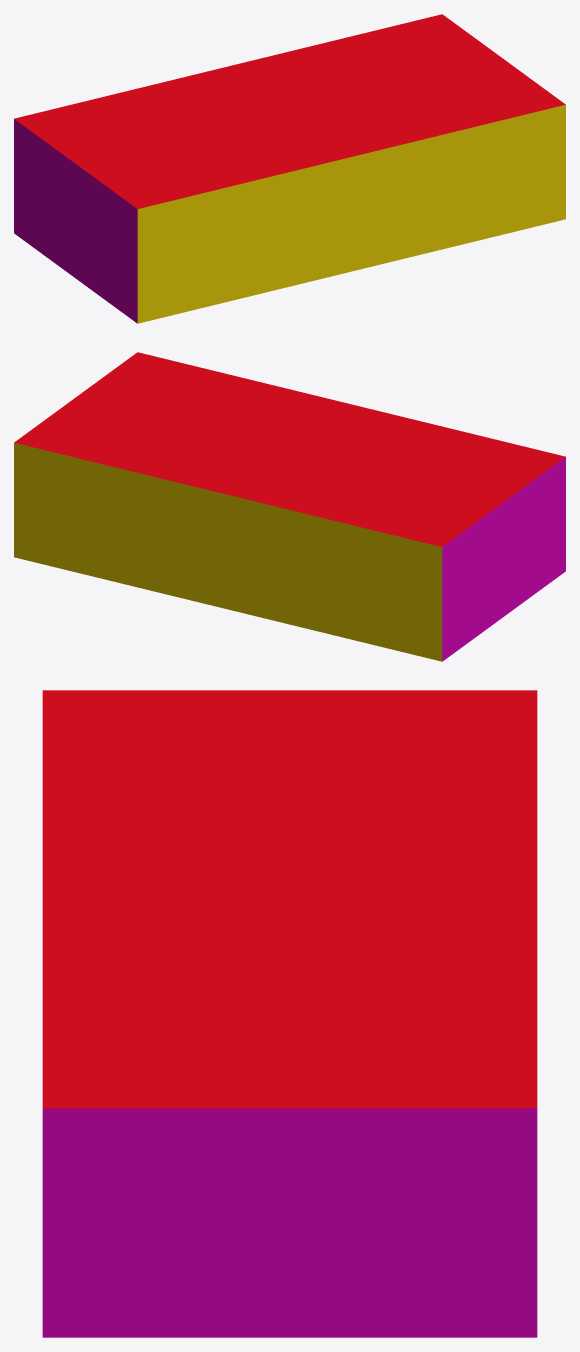
Rendered from cuboid.fbx.
The picture shows the model from 3 angles, top to bottom: view 1: azimuth 30°, elevation 25°; view 2: azimuth 150°, elevation 25°; view 3: azimuth 270°, elevation 25°; orthographic projection. The views are drawn at different scales.
Parts seen in each view (by area): view 1: Cuboid; view 2: Cuboid; view 3: Cuboid.
Part boxes in pixels (x1=…): Cuboid: x1=14, y1=14, x2=565, y2=323; Cuboid: x1=14, y1=352, x2=565, y2=661; Cuboid: x1=42, y1=690, x2=537, y2=1337.
Bounding box in the file's own units: 400 × 102 × 200.
